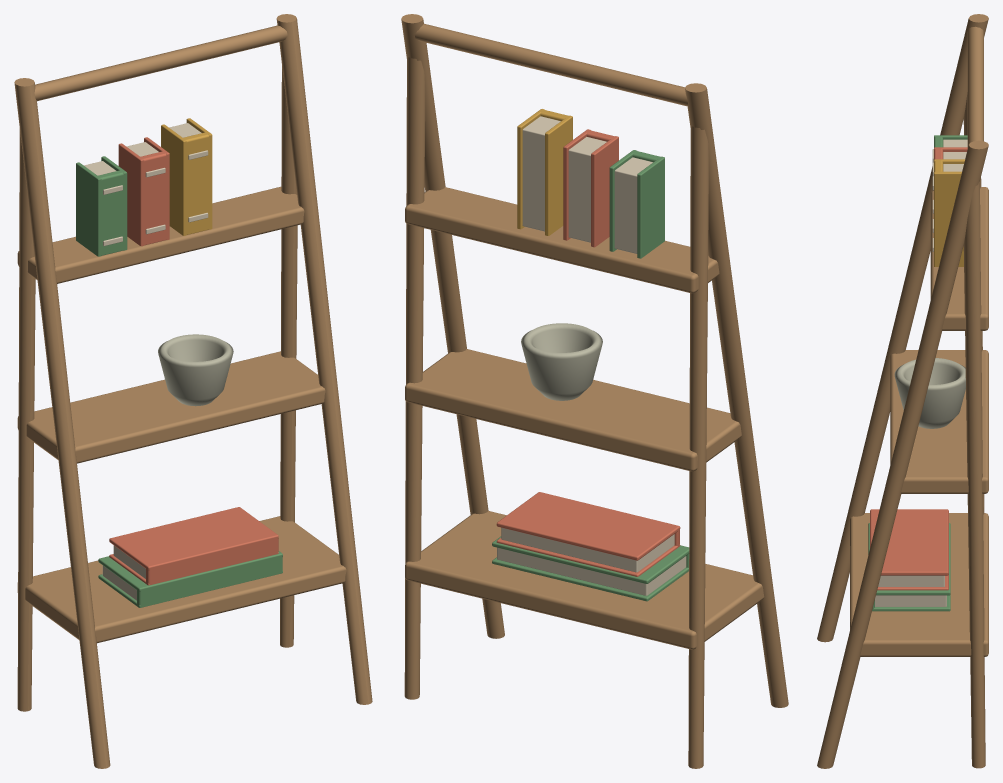
The model's file is ladder.glb.
3 views of the same model, side by side, from view 1: azimuth 30°, elevation 25°; view 2: azimuth 150°, elevation 25°; view 3: azimuth 270°, elevation 25° (orthographic). The views are drawn at different scales.
Visible parts, largest first — view 1: tapered-depth-shelf-1, continuous-leaning-rail--1, continuous-leaning-rail-1, tapered-depth-shelf-0, grounded-rear-support--1, tapered-depth-shelf-2, grounded-rear-support-1, upper-bottom-folio-cover-0-475, upper-receiving-rail, ladder-bowl, ladder-book-2-bound-spine, folded-bottom-folio-spine (+7 smaller); view 2: tapered-depth-shelf-1, tapered-depth-shelf-0, continuous-leaning-rail--1, grounded-rear-support--1, tapered-depth-shelf-2, grounded-rear-support-1, continuous-leaning-rail-1, upper-bottom-folio-cover-0-475, upper-receiving-rail, ladder-bowl, ladder-book-2-page-block, ladder-book-0-cover--1 (+12 smaller); view 3: continuous-leaning-rail-1, grounded-rear-support-1, tapered-depth-shelf-0, continuous-leaning-rail--1, tapered-depth-shelf-1, upper-bottom-folio-cover-0-475, ladder-bowl, tapered-depth-shelf-2, upper-receiving-rail, ladder-book-2-cover-1, folded-bottom-folio-pages, upper-bottom-folio-pages (+4 smaller).
Part boxes in pixels (x1,y1,x2,y2): tapered-depth-shelf-1: (17,351,325,463); continuous-leaning-rail--1: (14,78,110,768); continuous-leaning-rail-1: (276,14,372,704); tapered-depth-shelf-0: (17,516,346,643); grounded-rear-support--1: (17,129,35,711); tapered-depth-shelf-2: (17,186,304,283); grounded-rear-support-1: (280,66,297,647); upper-bottom-folio-cover-0-475: (109,507,278,570); upper-receiving-rail: (34,25,287,101); ladder-bowl: (158,334,233,406); ladder-book-2-bound-spine: (179,132,210,234); folded-bottom-folio-spine: (137,557,282,606); tapered-depth-shelf-1: (405,349,741,471); tapered-depth-shelf-0: (405,511,764,649); continuous-leaning-rail--1: (685,83,788,707); grounded-rear-support--1: (688,126,708,768); tapered-depth-shelf-2: (405,187,719,293); grounded-rear-support-1: (404,57,425,699); continuous-leaning-rail-1: (401,14,504,638); upper-bottom-folio-cover-0-475: (496,492,680,560); upper-receiving-rail: (414,23,688,106); ladder-bowl: (521,323,602,400); ladder-book-2-page-block: (522,116,560,231); ladder-book-0-cover--1: (637,156,664,258); continuous-leaning-rail-1: (817,140,988,768); grounded-rear-support-1: (963,181,985,768); tapered-depth-shelf-0: (850,513,988,656); continuous-leaning-rail--1: (817,14,988,642); tapered-depth-shelf-1: (890,350,988,493); upper-bottom-folio-cover-0-475: (870,509,948,575); ladder-bowl: (894,358,965,428); tapered-depth-shelf-2: (930,187,988,330); upper-receiving-rail: (967,26,983,148); ladder-book-2-cover-1: (934,171,963,266); folded-bottom-folio-pages: (875,595,946,606); upper-bottom-folio-pages: (878,575,944,586).
Bounding box in the file's own units: 0.854 × 1.83 × 0.4586.
